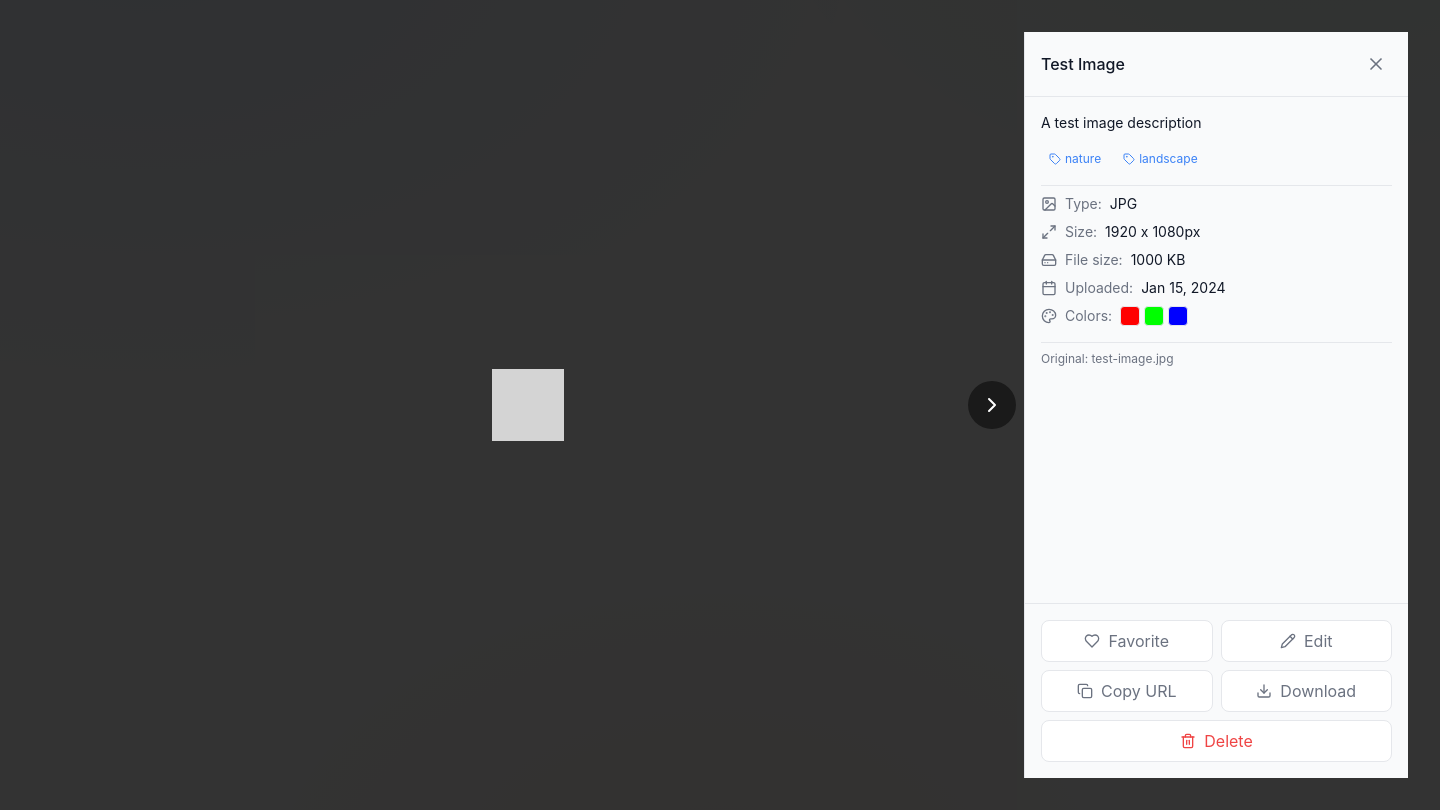
Test: ImageDetailsModal › Edit Mode › enters edit mode when Edit button is clicked
Click the button "Edit". click: click(1306, 641)
box: x1=1220 y1=620 x2=1392 y2=662
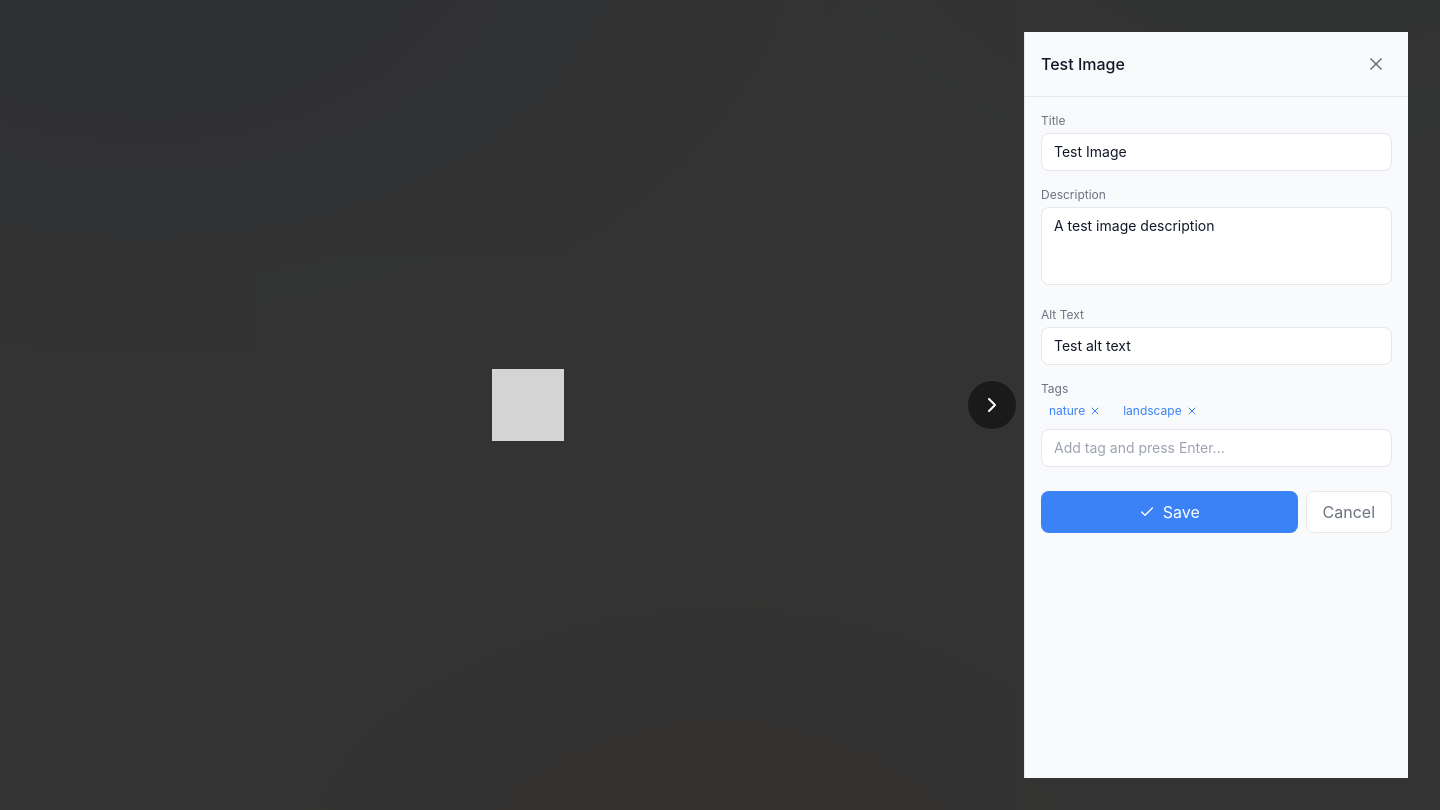
expect the field with placeholder "Image title..." below "Title" is shown: met, box x1=1041 y1=133 x2=1392 y2=171
